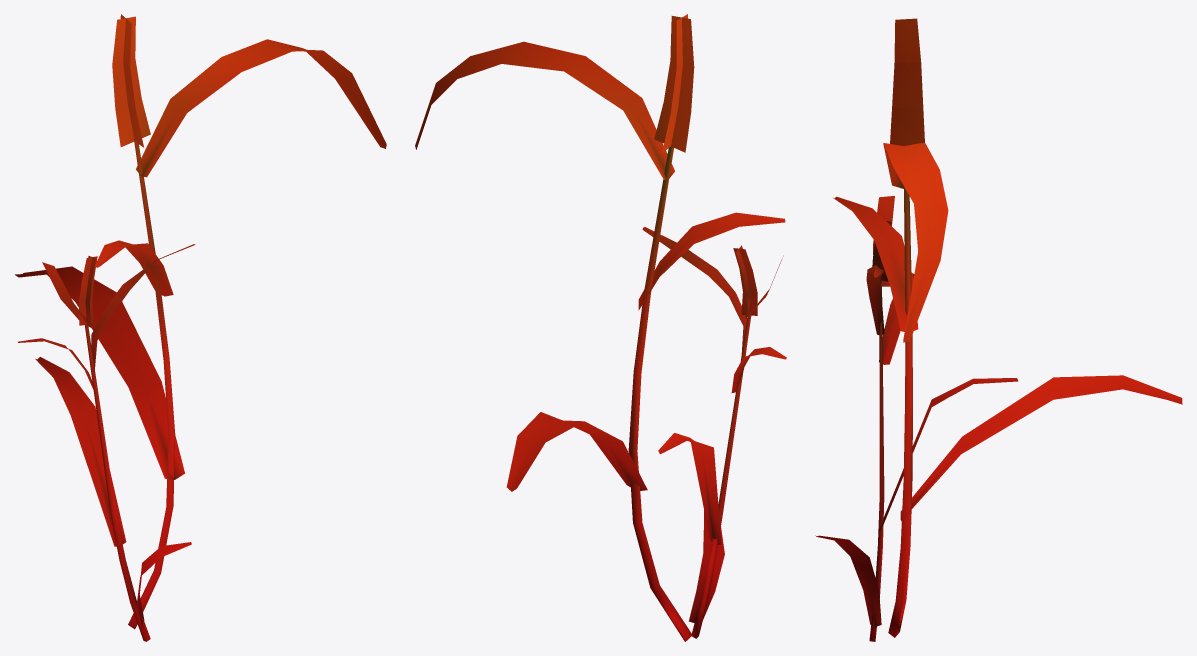
File: SM_WheatPlants_9.fbx
3 views of the same model, side by side, from view 1: azimuth 30°, elevation 25°; view 2: azimuth 150°, elevation 25°; view 3: azimuth 270°, elevation 25° (orthographic). The views are drawn at different scales.
Visible parts, largest first — view 1: SM_WheatPlants_9; view 2: SM_WheatPlants_9; view 3: SM_WheatPlants_9.
Boxes of the visible parts, x1,y1,x2,y2 form: SM_WheatPlants_9: [15, 14, 386, 641]; SM_WheatPlants_9: [415, 14, 786, 641]; SM_WheatPlants_9: [815, 18, 1182, 641].
Size of the model in its own units: 0.9894 by 1.59 by 0.8527.
